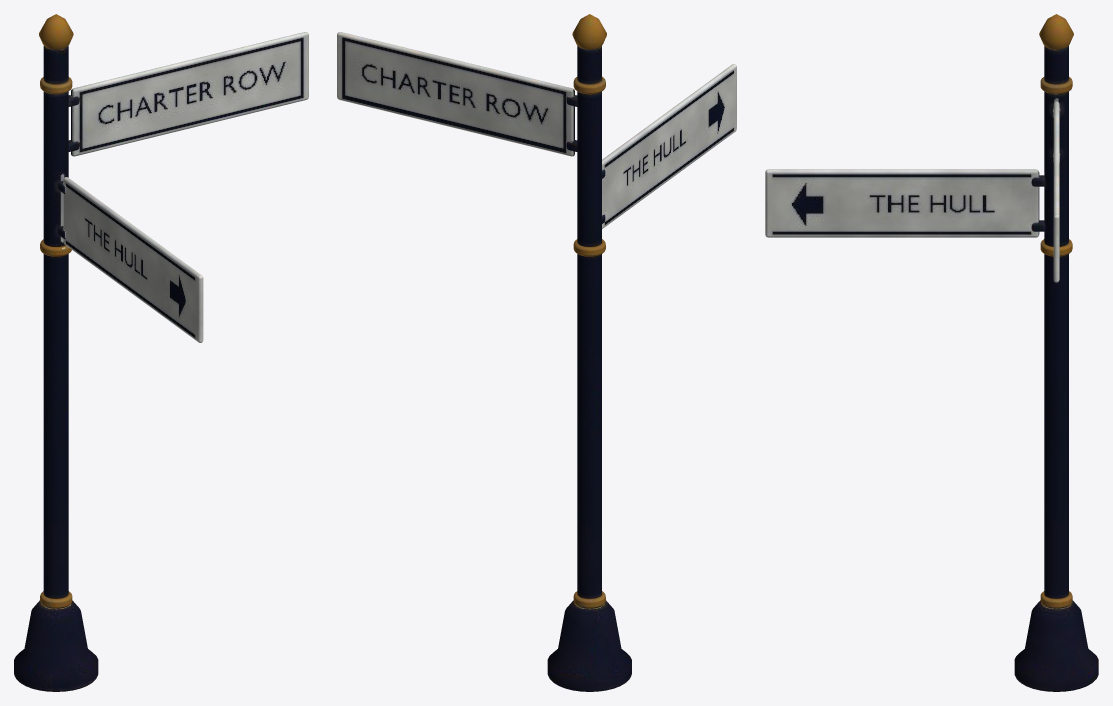
Rendered from sign_charter_row.glb.
The picture shows the model from 3 angles, left to right: view 1: azimuth 30°, elevation 25°; view 2: azimuth 150°, elevation 25°; view 3: azimuth 270°, elevation 25°; orthographic projection.
Parts seen in each view (by area): view 1: sign_charter_row; view 2: sign_charter_row; view 3: sign_charter_row.
Part boxes in pixels (x1,y1,x2,y2): sign_charter_row: (14, 14, 308, 691); sign_charter_row: (337, 14, 736, 691); sign_charter_row: (765, 14, 1098, 691).
Size of the model in its own units: 1.34 by 2.93 by 1.34.
Materials: 1 (1 with a texture image).
